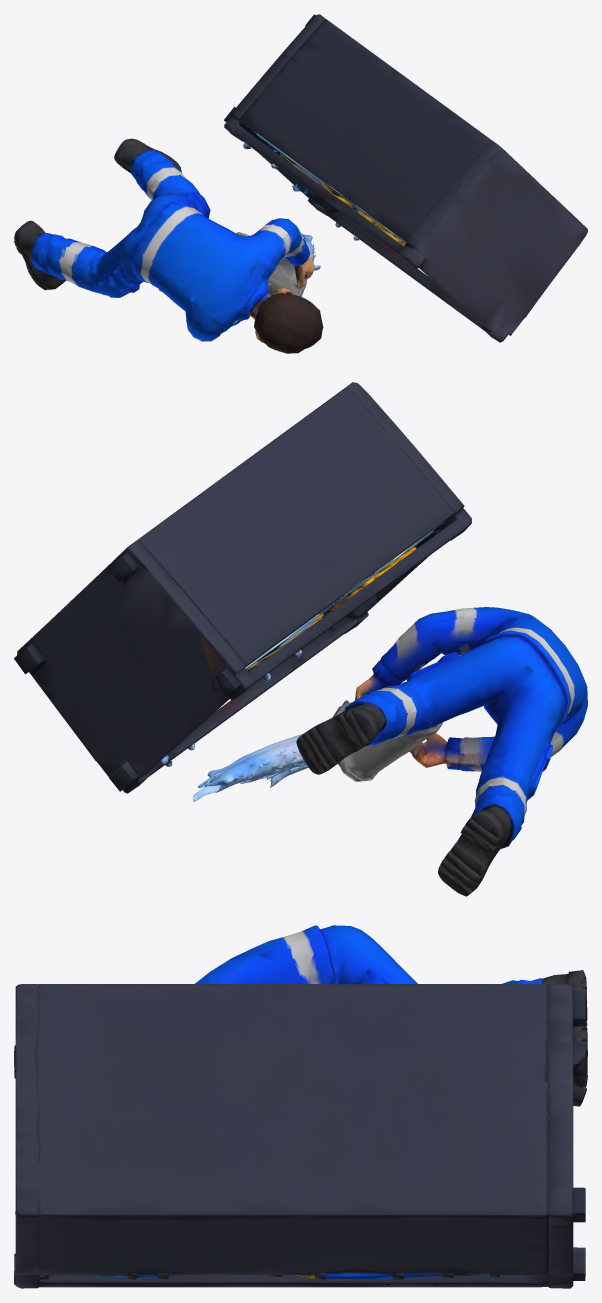
File: monter_tushit_server.glb
3 views of the same model, one above another, from view 1: azimuth 30°, elevation 25°; view 2: azimuth 150°, elevation 25°; view 3: azimuth 270°, elevation 25° (orthographic). The views are drawn at different scales.
Parts seen in each view (by area): view 1: monter_tushit_server; view 2: monter_tushit_server; view 3: monter_tushit_server.
Boxes of the visible parts, bbox=[...] form: monter_tushit_server: bbox=[14, 14, 587, 353]; monter_tushit_server: bbox=[14, 382, 587, 896]; monter_tushit_server: bbox=[14, 925, 587, 1288].
Size of the model in its own units: 2.4 by 1.25 by 2.
1 material, 1 textured.
